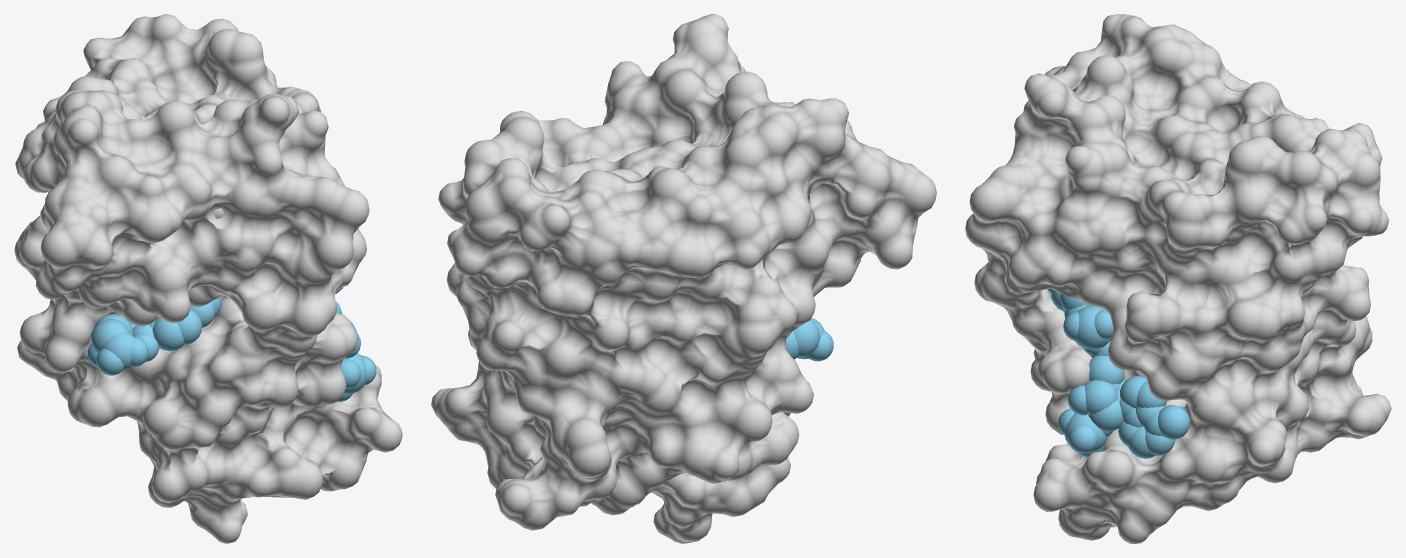
Rendered from color.dae.
3 views of the same model, side by side, from view 1: azimuth 30°, elevation 25°; view 2: azimuth 150°, elevation 25°; view 3: azimuth 270°, elevation 25° (orthographic). The views are drawn at different scales.
Visible parts, largest first — view 1: subnode_80, subnode_15, subnode_25, subnode_26, subnode_16, subnode_27; view 2: subnode_80, subnode_25; view 3: subnode_80, subnode_55, subnode_49, subnode_39, subnode_36, subnode_41, subnode_78, subnode_76, subnode_45, subnode_51.
Part boxes in pixels (box(x1,y1,x2,y2)): subnode_80: box(14, 14, 402, 543); subnode_15: box(152, 317, 184, 351); subnode_25: box(91, 319, 130, 353); subnode_26: box(101, 332, 133, 370); subnode_16: box(177, 309, 202, 345); subnode_27: box(96, 349, 123, 375); subnode_80: box(431, 14, 936, 543); subnode_25: box(793, 319, 819, 357); subnode_80: box(965, 14, 1391, 543); subnode_55: box(1074, 305, 1111, 349); subnode_49: box(1158, 405, 1190, 439); subnode_39: box(1084, 380, 1117, 414); subnode_36: box(1089, 355, 1124, 384); subnode_41: box(1088, 399, 1123, 431); subnode_78: box(1068, 425, 1097, 453); subnode_76: box(1064, 413, 1107, 453); subnode_45: box(1120, 376, 1146, 408); subnode_51: box(1128, 426, 1155, 458).
Bounding box in the file's own units: 39.31 × 47.48 × 40.04.
